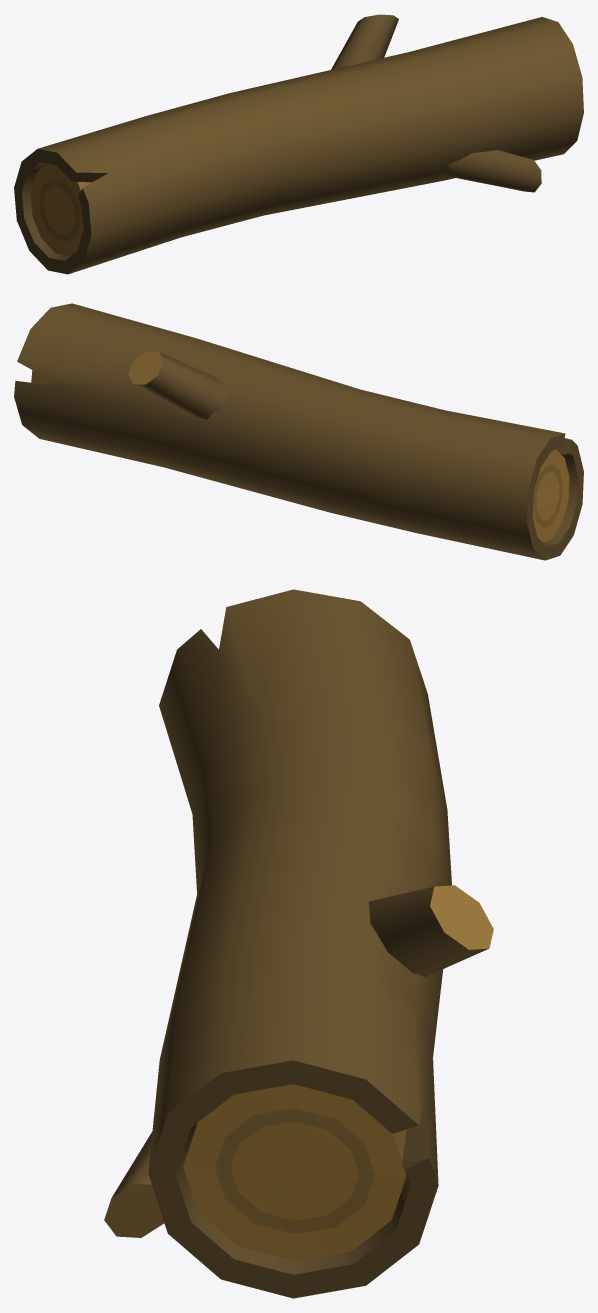
File: SM_Log_A.fbx
3 views of the same model, one above another, from view 1: azimuth 30°, elevation 25°; view 2: azimuth 150°, elevation 25°; view 3: azimuth 270°, elevation 25° (orthographic). The views are drawn at different scales.
Parts seen in each view (by area): view 1: SM_Log_A; view 2: SM_Log_A; view 3: SM_Log_A.
Part boxes in pixels (x1,y1,x2,y2): SM_Log_A: (14, 14, 583, 274); SM_Log_A: (14, 303, 583, 560); SM_Log_A: (104, 589, 493, 1298).
Size of the model in its own units: 204 by 53.53 by 67.05.
